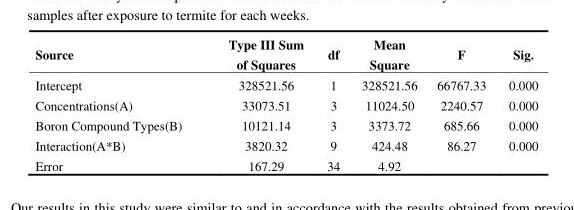table: (34, 34, 537, 173)
table column: (34, 34, 204, 173), (204, 34, 314, 173), (350, 34, 426, 173), (426, 34, 496, 173), (496, 34, 537, 173), (314, 34, 350, 173)
table column header: (34, 34, 537, 74)
table row: (34, 34, 537, 74), (34, 74, 537, 94), (34, 94, 537, 114), (34, 114, 537, 134), (34, 134, 537, 154), (34, 154, 537, 173)
